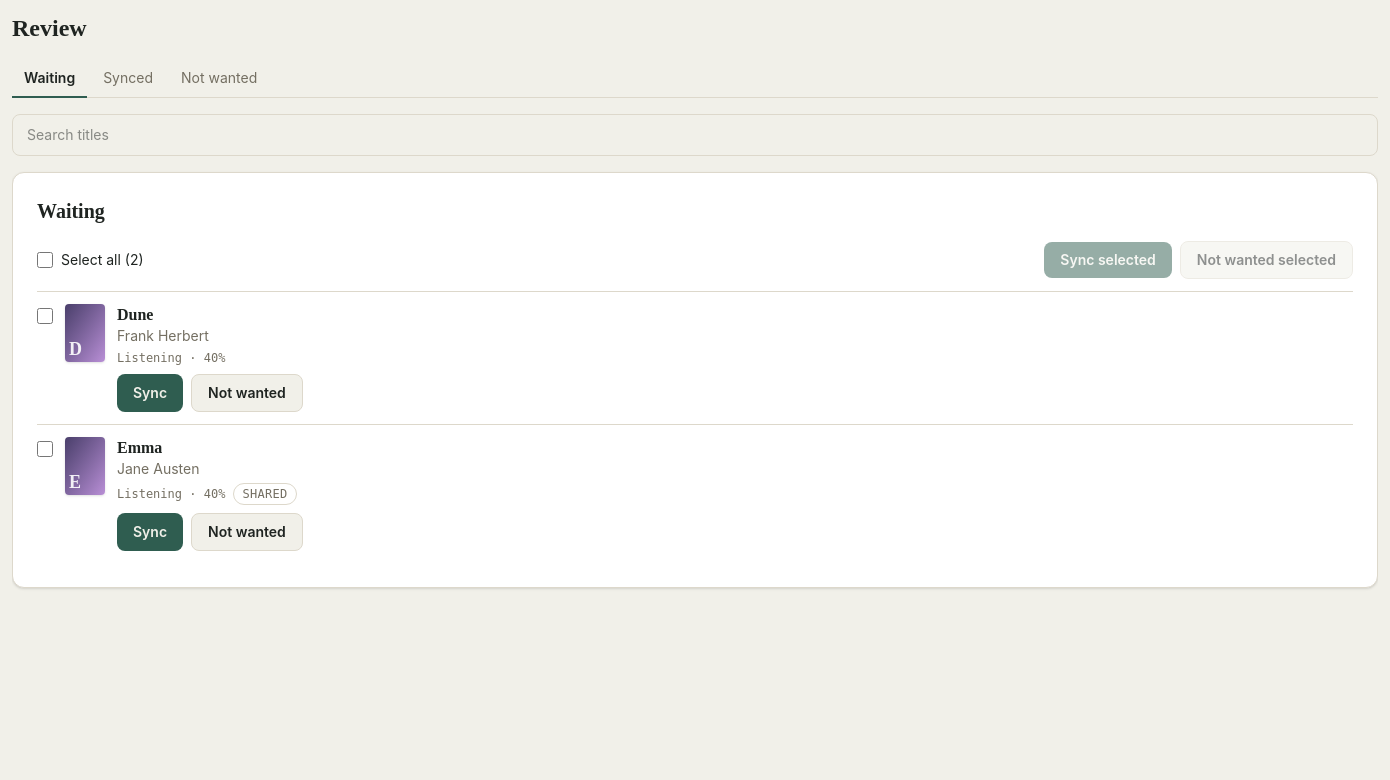
Scenario: ReviewPage › bulk Not wanted sends the selected asins
Expected: the text "Dune" is shown, [117,306,154,323]
Click the checkbox named "Select Emma". click: (45, 449)
box: [37,441,53,457]
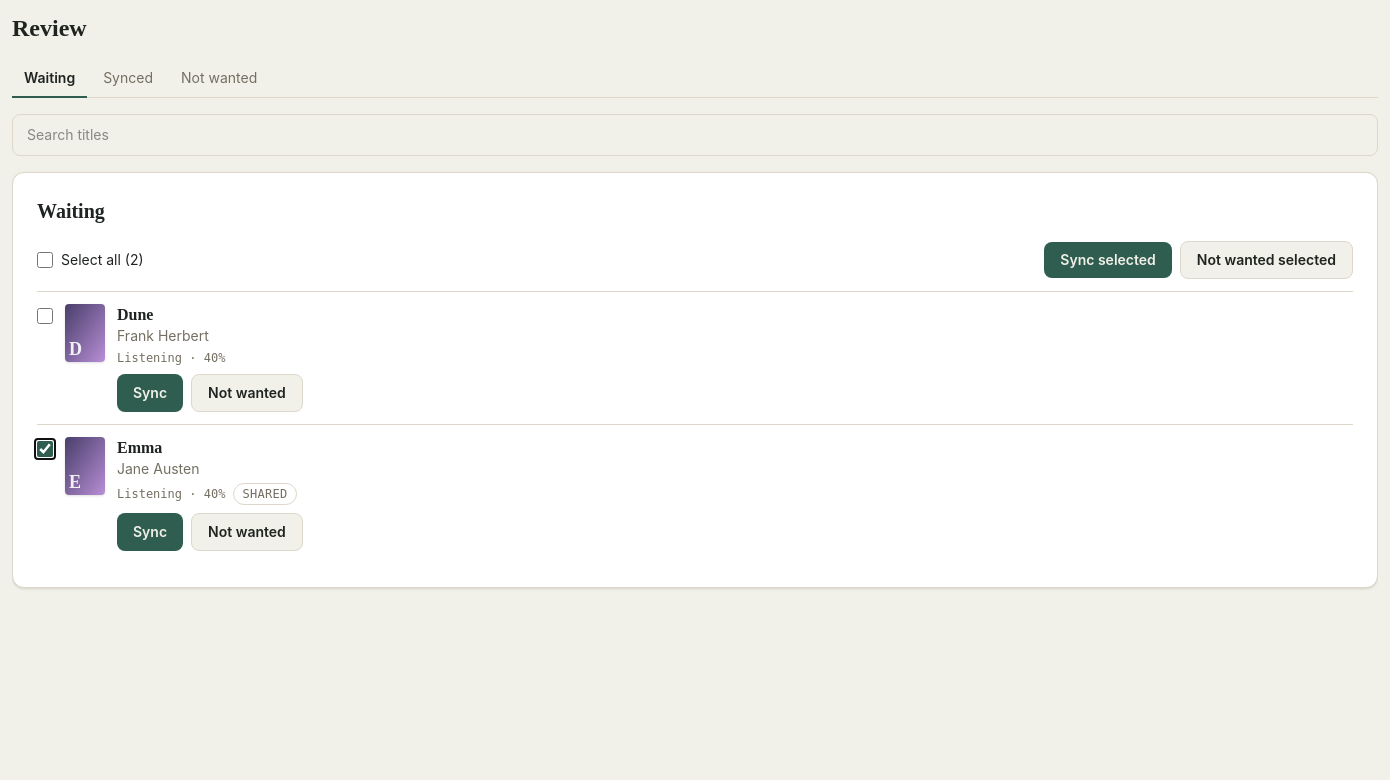
Click the button "Not wanted selected". click: (1266, 260)
box: [1180,241,1353,279]
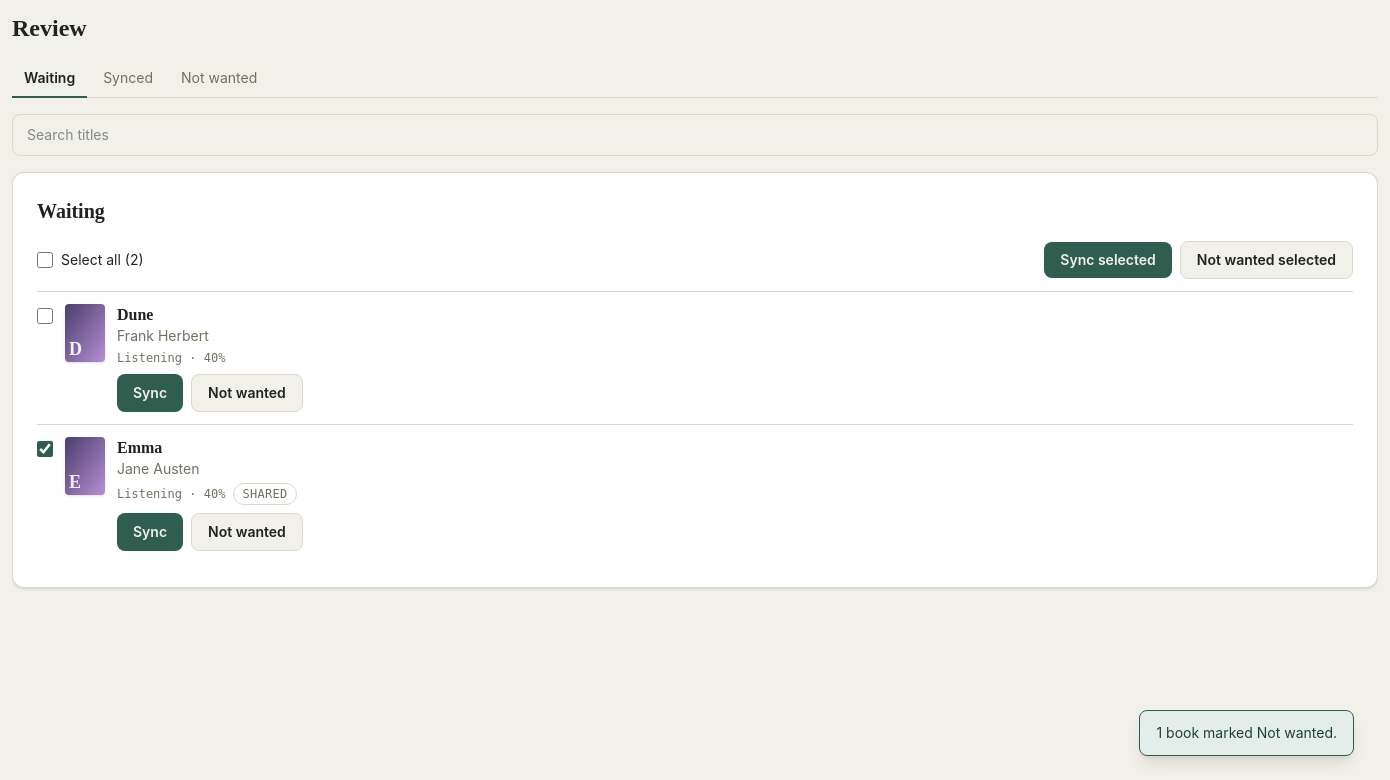
Result: the message shows "1 book marked Not wanted" at [1156,724,1337,741]
